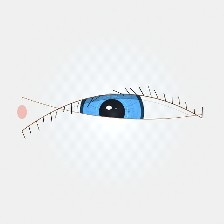pinguecula_lesion: (31, 97, 79, 135)
